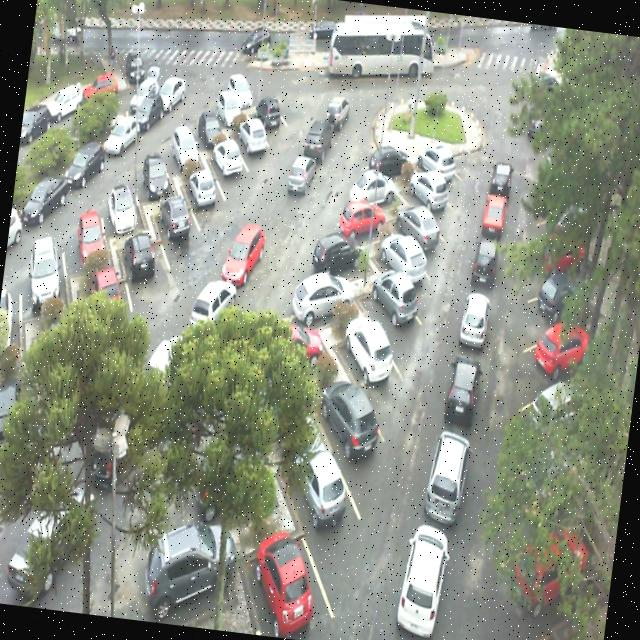occupied: (137, 502, 248, 627), (241, 496, 335, 634), (276, 438, 371, 563), (306, 367, 388, 481), (334, 314, 408, 406), (348, 264, 419, 344), (18, 224, 78, 318), (58, 182, 119, 270), (280, 262, 352, 334), (115, 216, 172, 299), (372, 222, 438, 293), (96, 156, 152, 238), (313, 219, 377, 279), (151, 180, 201, 254), (388, 187, 448, 248), (176, 149, 228, 219), (320, 187, 384, 243), (132, 139, 183, 206), (404, 162, 460, 216), (348, 160, 406, 210), (418, 142, 472, 193), (208, 130, 255, 188), (229, 100, 276, 158), (161, 114, 206, 174), (208, 72, 252, 132), (187, 94, 230, 152), (356, 132, 410, 178), (249, 84, 290, 138)
